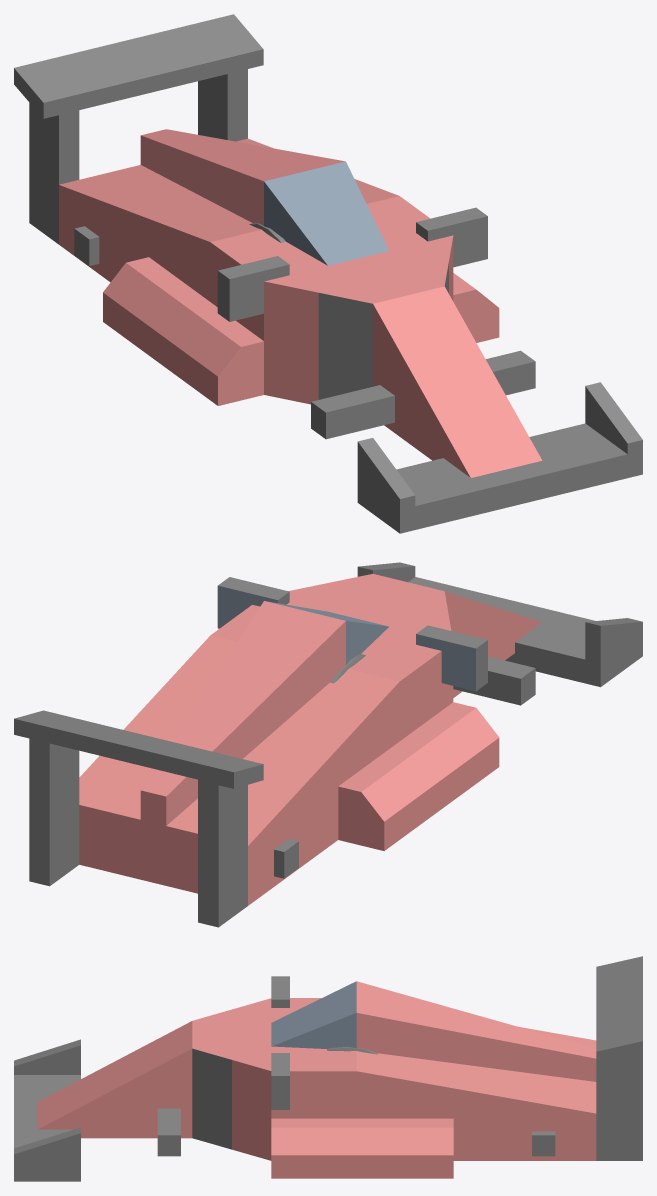
Rendered from raceCarRed.glb.
3 views of the same model, one above another, from view 1: azimuth 30°, elevation 25°; view 2: azimuth 150°, elevation 25°; view 3: azimuth 270°, elevation 25° (orthographic). The views are drawn at different scales.
Parts seen in each view (by area): view 1: raceCarRed.001; view 2: raceCarRed.001; view 3: raceCarRed.001.
Part boxes in pixels (x1=…): raceCarRed.001: x1=14, y1=14, x2=642, y2=533; raceCarRed.001: x1=14, y1=562, x2=642, y2=927; raceCarRed.001: x1=14, y1=956, x2=642, y2=1181.
Bounding box in the file's own units: 2.75 × 1.82 × 6.73.
